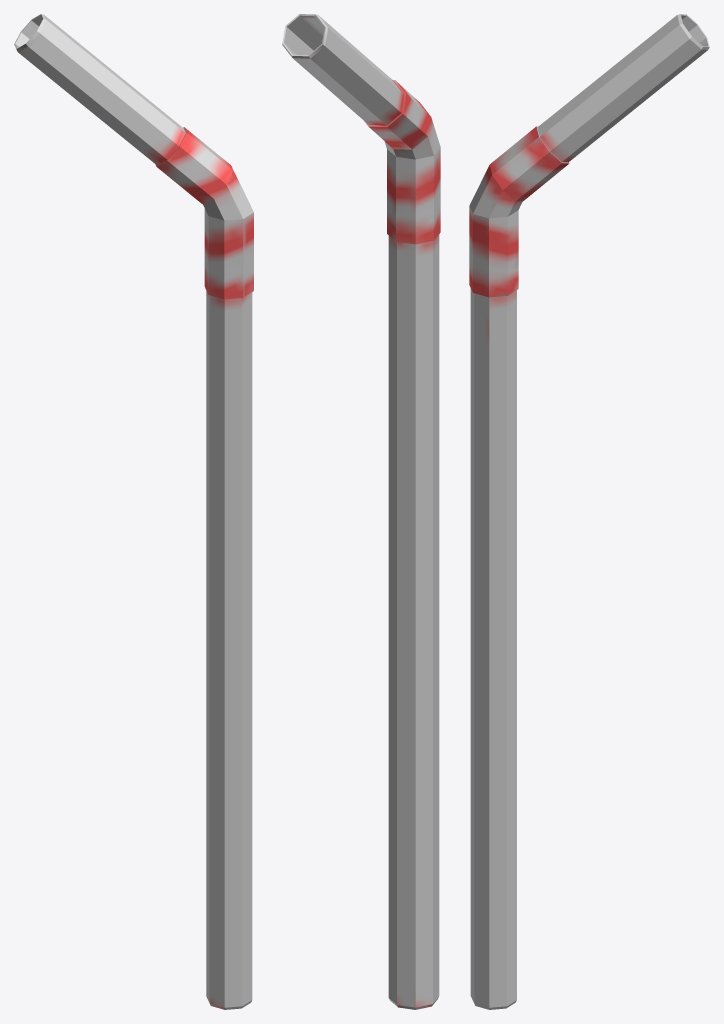
File: BendyStraw.fbx
3 renders of one model, left to right at view 1: azimuth 90°, elevation 25°; view 2: azimuth 150°, elevation 25°; view 3: azimuth 270°, elevation 25°, orthographic. The views are drawn at different scales.
Visible parts, largest first — view 1: Cylinder.001; view 2: Cylinder.001; view 3: Cylinder.001.
Boxes of the visible parts, x1,y1,x2,y2 form: Cylinder.001: [14, 14, 253, 1009]; Cylinder.001: [282, 14, 440, 1009]; Cylinder.001: [469, 14, 709, 1009].
Bounding box in the file's own units: 8.41 × 184 × 40.66.
